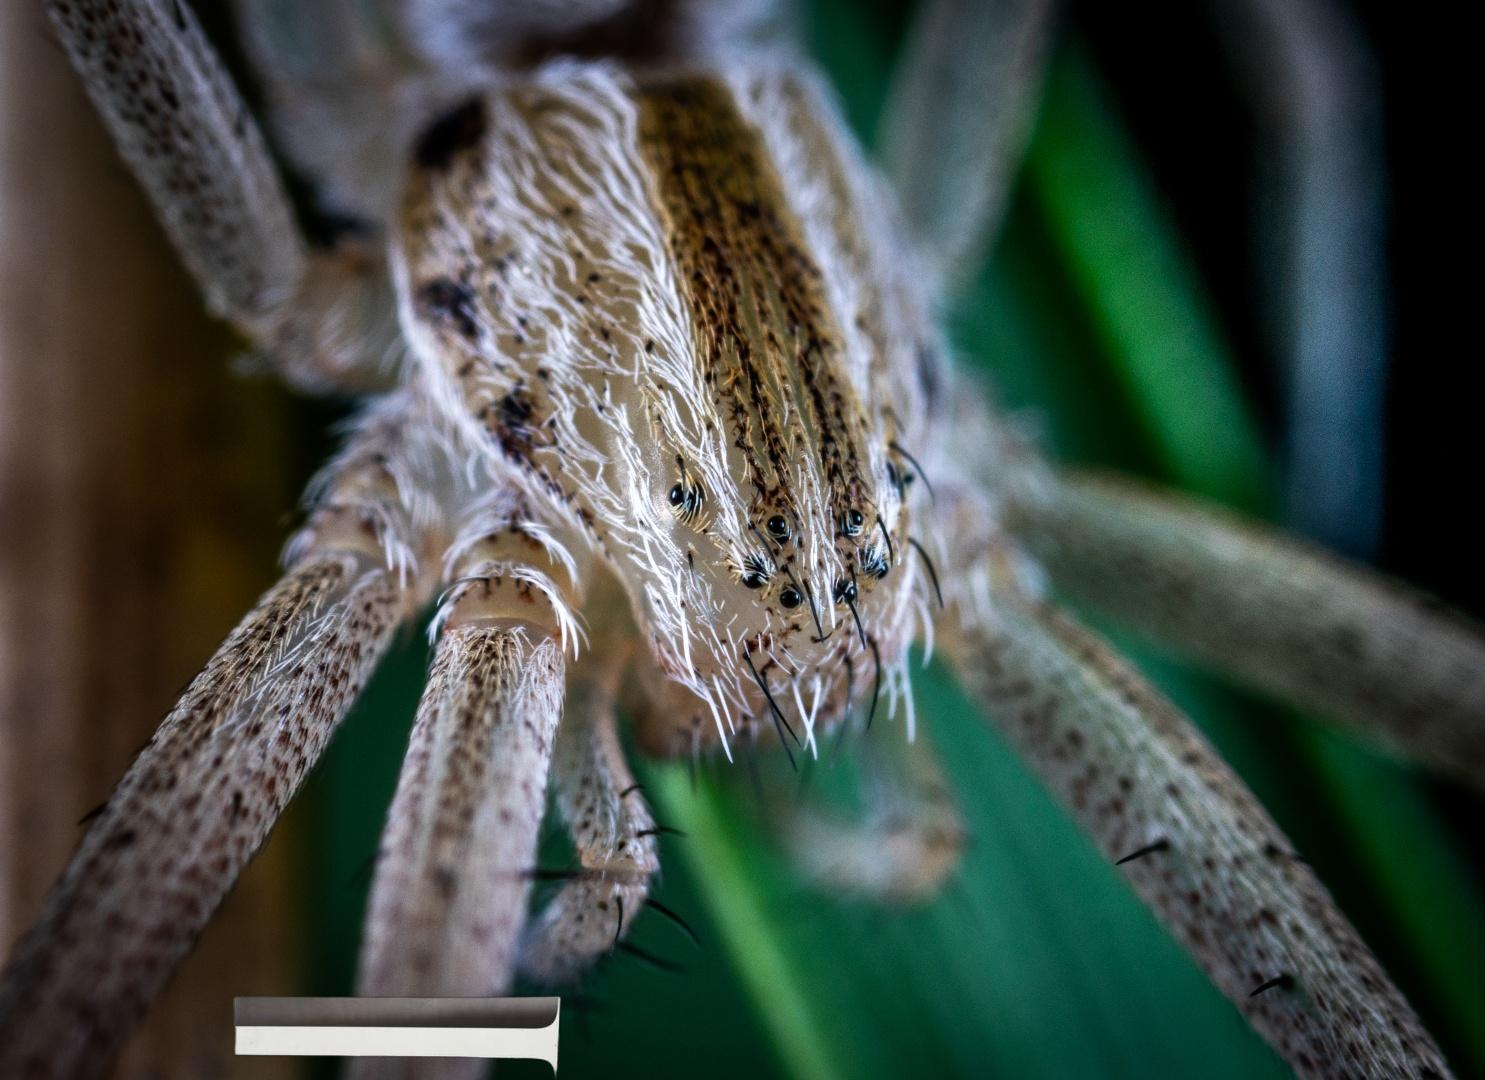paper: (225, 992, 566, 1080)
trash: (729, 1065, 1009, 1080)
